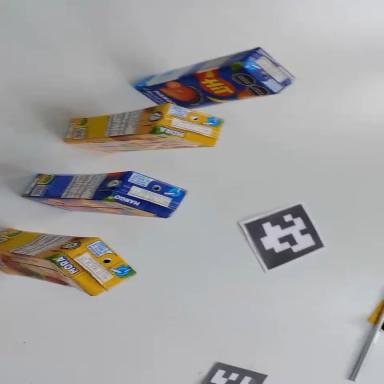HIT-MANGO: (132, 42, 296, 119), (22, 169, 186, 218)
HIT-MORA: (0, 227, 138, 300), (62, 101, 224, 154)
cara_F: (135, 59, 276, 117), (0, 253, 94, 296), (66, 130, 212, 155), (24, 197, 167, 218)
